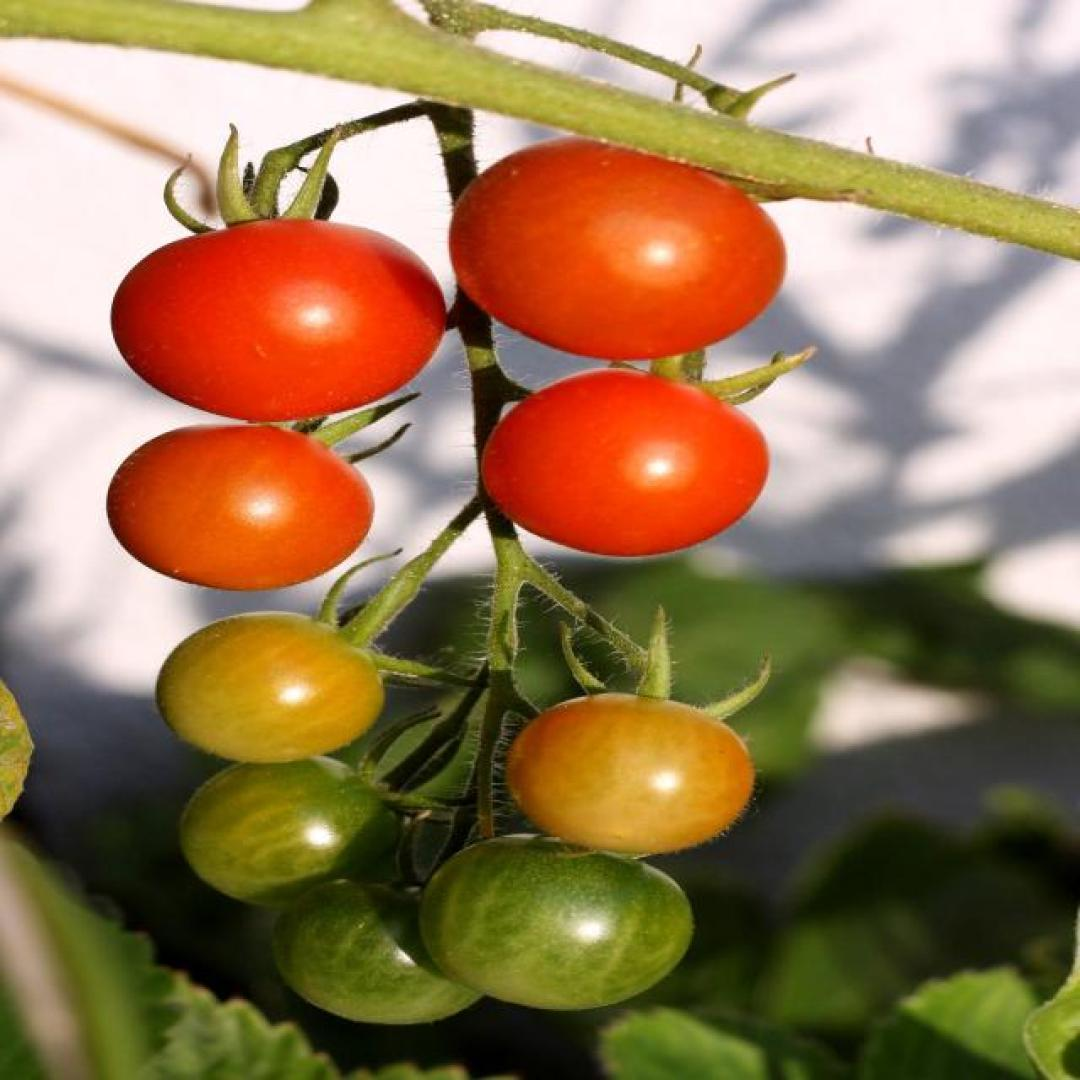matang: (447, 132, 790, 361), (110, 218, 449, 420), (479, 368, 771, 558)
mentah: (418, 832, 697, 1011), (177, 754, 415, 912), (270, 878, 501, 1024)
setengah_matang: (101, 423, 376, 589), (501, 692, 756, 852), (154, 609, 386, 764)
